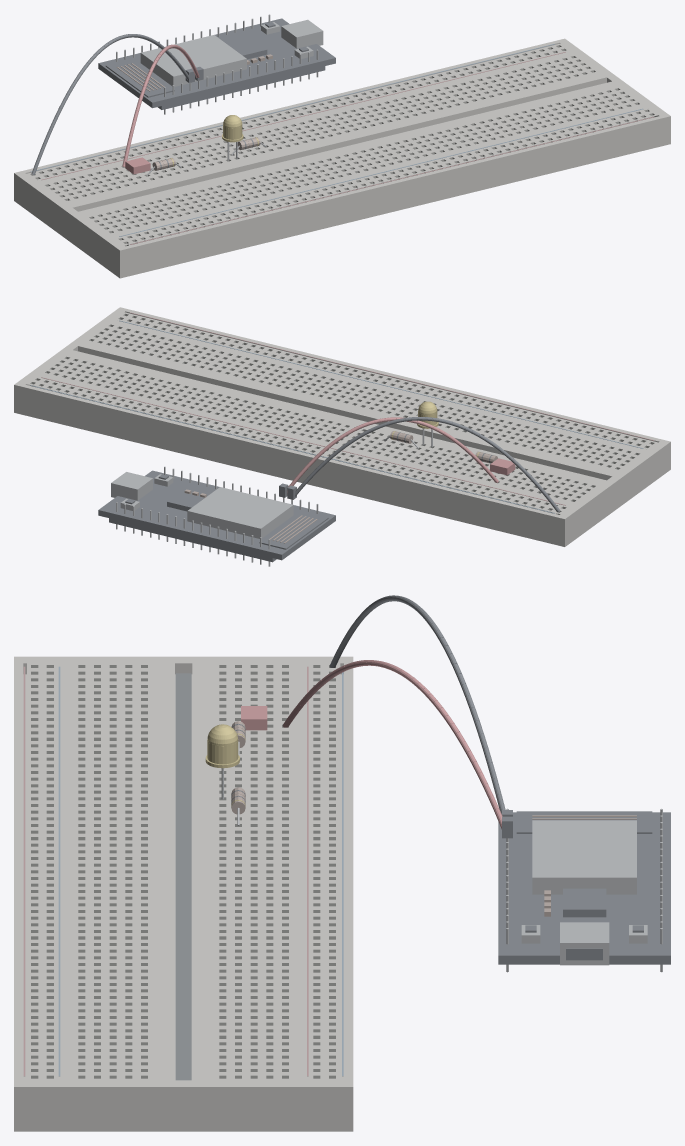
Rendered from step-6.glb.
3 views of the same model, one above another, from view 1: azimuth 30°, elevation 25°; view 2: azimuth 150°, elevation 25°; view 3: azimuth 270°, elevation 25° (orthographic). The views are drawn at different scales.
Visible parts, largest first — view 1: bb__mesh, uno__mesh, w_gnd_rail__mesh, w_5v__mesh, led_yellow__mesh; view 2: bb__mesh, uno__mesh, w_gnd_rail__mesh, w_5v__mesh, led_yellow__mesh; view 3: bb__mesh, uno__mesh, w_5v__mesh, w_gnd_rail__mesh, led_yellow__mesh.
Part boxes in pixels (left/top/right/bottom): bb__mesh: left=14, top=38, right=670, bottom=278; uno__mesh: left=98, top=14, right=335, bottom=114; w_gnd_rail__mesh: left=31, top=34, right=194, bottom=175; w_5v__mesh: left=122, top=44, right=203, bottom=167; led_yellow__mesh: left=222, top=115, right=243, bottom=160; bb__mesh: left=14, top=307, right=670, bottom=546; uno__mesh: left=98, top=466, right=335, bottom=566; w_gnd_rail__mesh: left=287, top=417, right=560, bottom=512; w_5v__mesh: left=279, top=417, right=498, bottom=497; led_yellow__mesh: left=417, top=401, right=438, bottom=447; bb__mesh: left=14, top=656, right=353, bottom=1131; uno__mesh: left=498, top=808, right=670, bottom=972; w_5v__mesh: left=283, top=660, right=512, bottom=838; w_gnd_rail__mesh: left=329, top=595, right=512, bottom=816; led_yellow__mesh: left=205, top=724, right=239, bottom=799.
Bounding box in the file's own units: 0.165 × 0.0333 × 0.1065.
